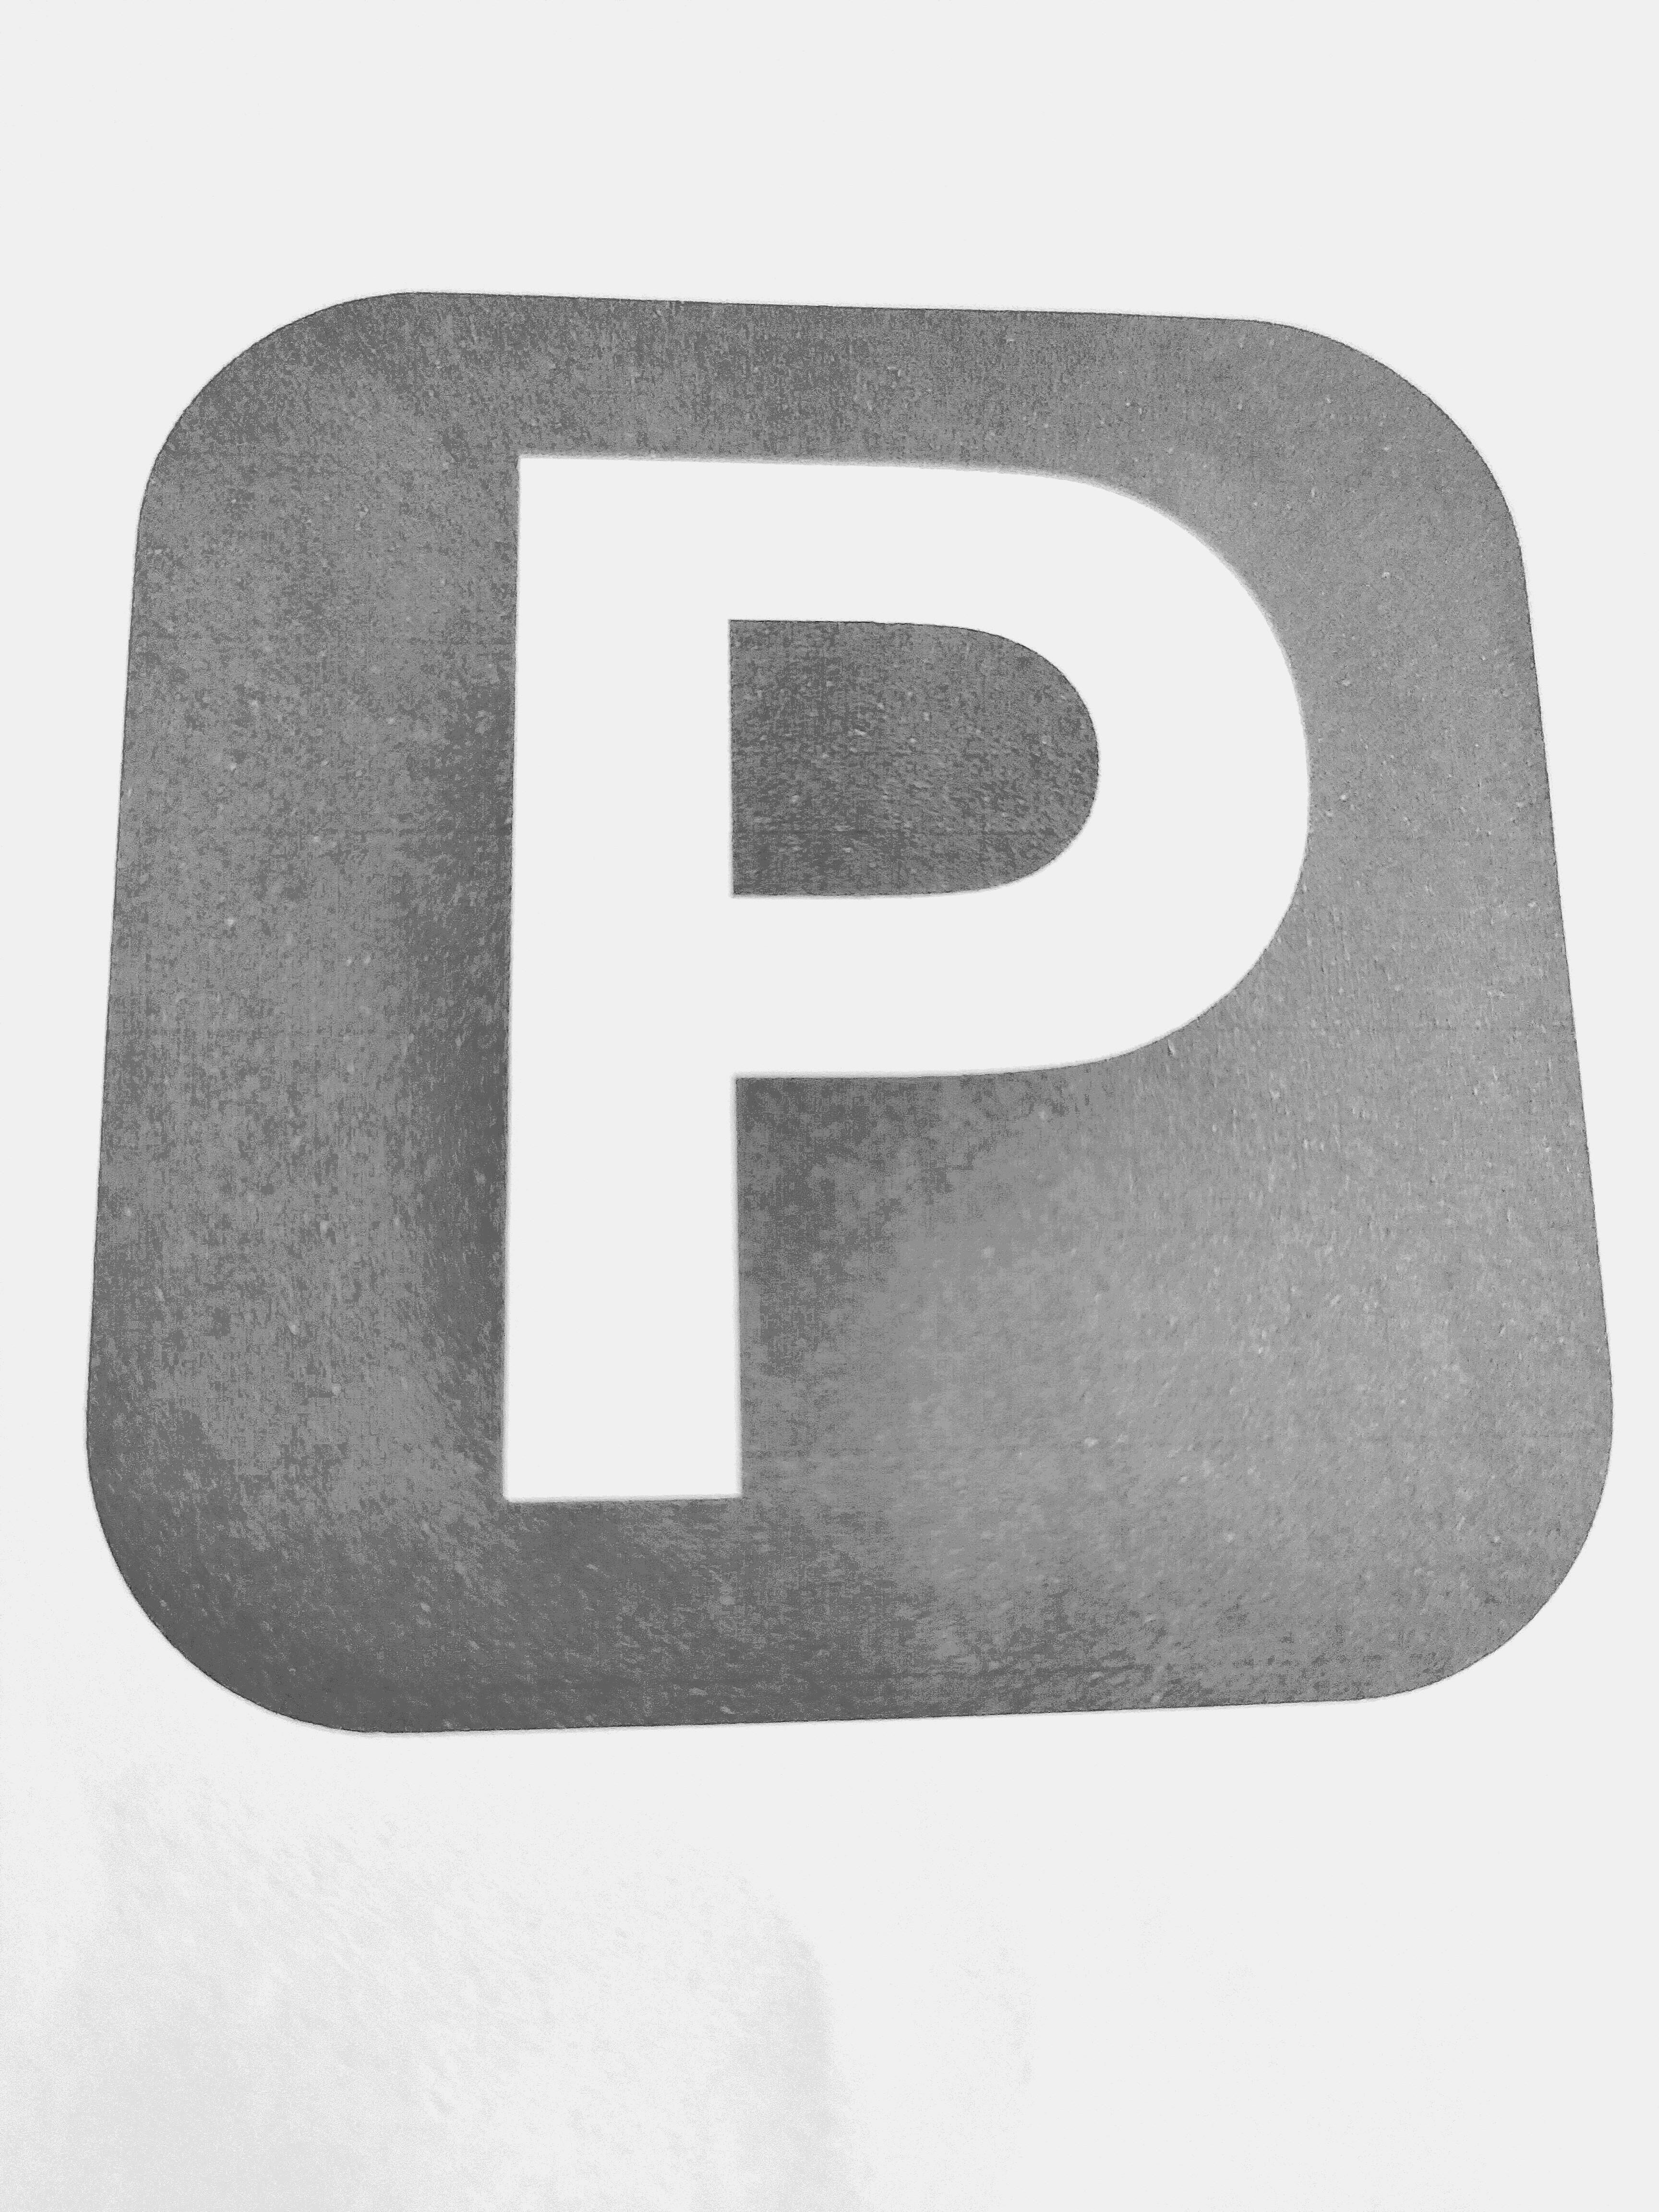parking: (91, 284, 1614, 1742)
